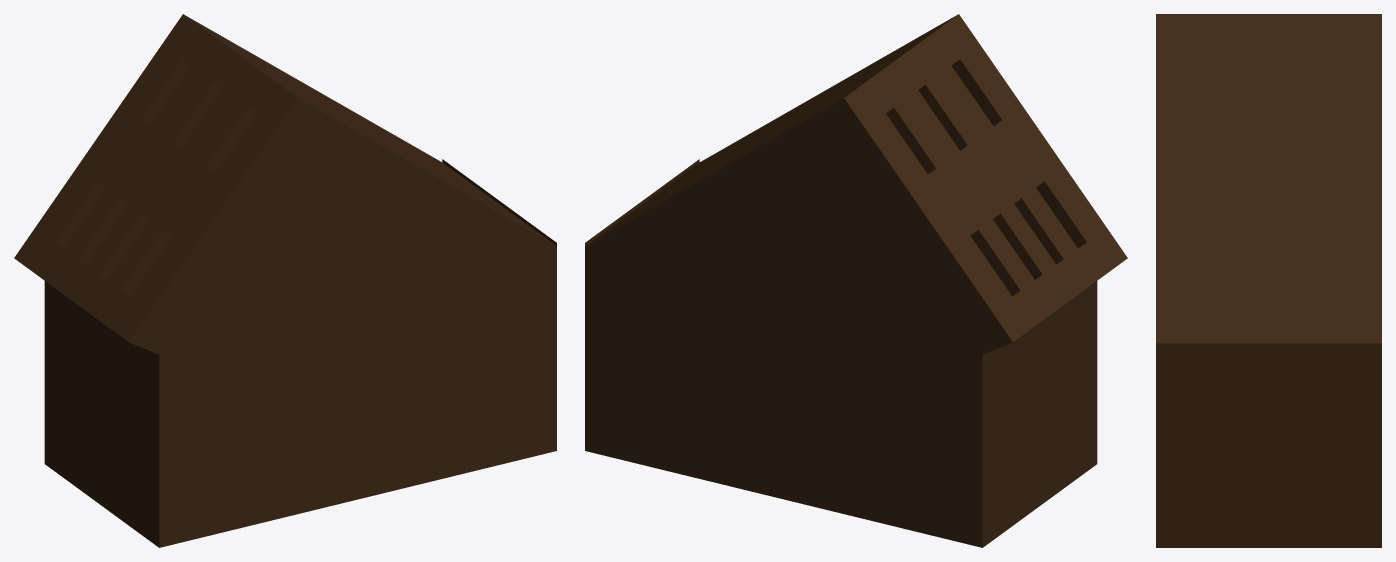
Rendered from Kitchen_SmallProps_Knifeholder.fbx.
The picture shows the model from 3 angles, left to right: view 1: azimuth 30°, elevation 25°; view 2: azimuth 150°, elevation 25°; view 3: azimuth 270°, elevation 25°; orthographic projection.
Parts seen in each view (by area): view 1: Knifeholder; view 2: Knifeholder; view 3: Knifeholder.
Boxes of the visible parts, x1,y1,x2,y2 form: Knifeholder: (14,14,556,547); Knifeholder: (585,14,1127,547); Knifeholder: (1156,14,1381,547).
Bounding box in the file's own units: 43.07 × 40 × 20.
